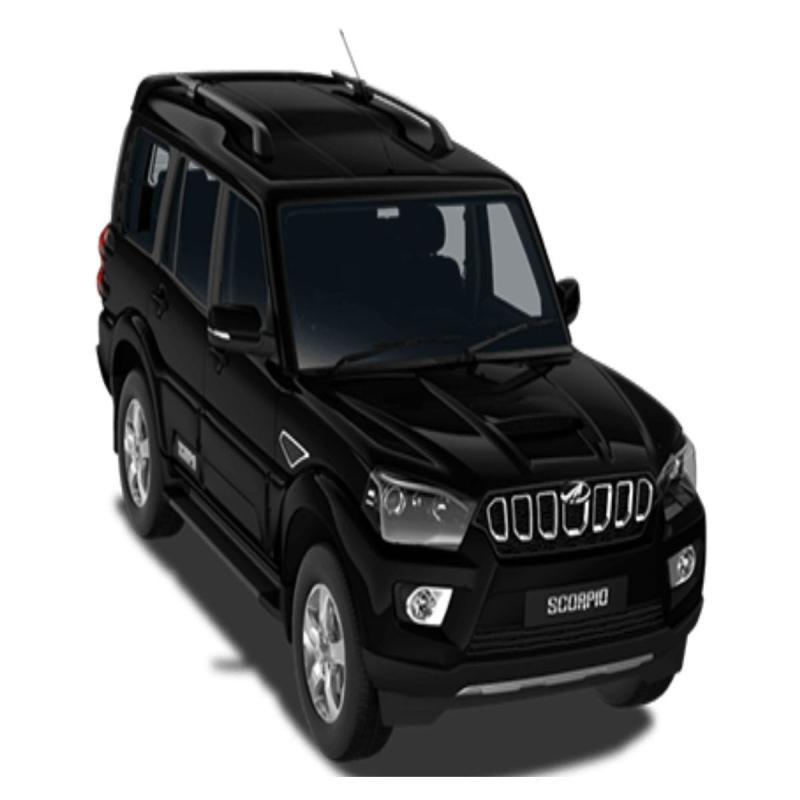car: (54, 54, 754, 761)
